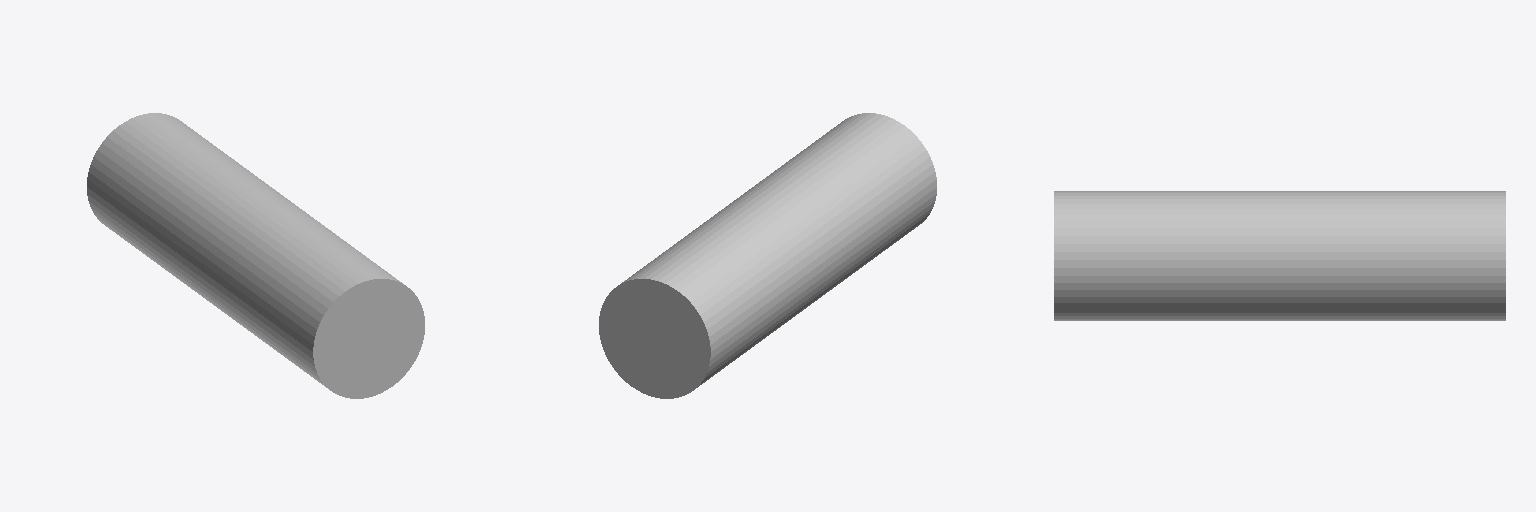
The model's file is laser.obj.
3 views of the same model, side by side, from view 1: azimuth 30°, elevation 25°; view 2: azimuth 150°, elevation 25°; view 3: azimuth 270°, elevation 25° (orthographic).
Visible parts, largest first — view 1: Cylinder001; view 2: Cylinder001; view 3: Cylinder001.
Part boxes in pixels (x1,y1,x2,y2): Cylinder001: (87, 113, 424, 398); Cylinder001: (599, 113, 936, 398); Cylinder001: (1054, 191, 1505, 320).
Size of the model in its own units: 20 by 19.96 by 70.